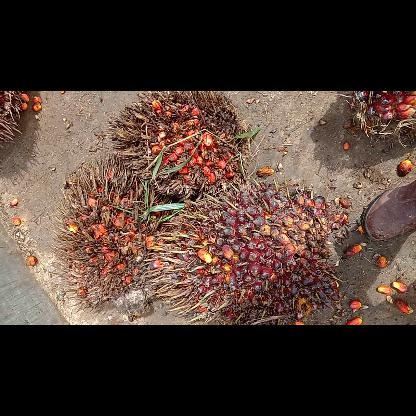TBS masak: (142, 180, 346, 324)
Terlalu masak: (48, 158, 170, 318), (107, 90, 253, 198)
